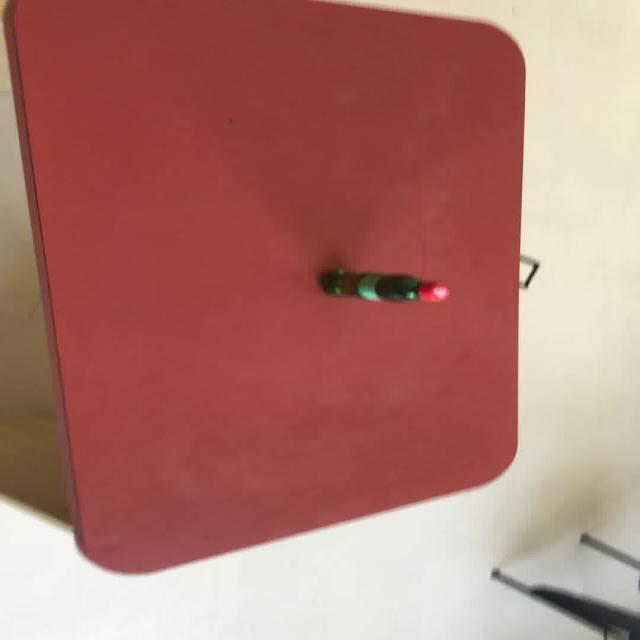guarana: (3, 0, 528, 574), (317, 268, 449, 303)
